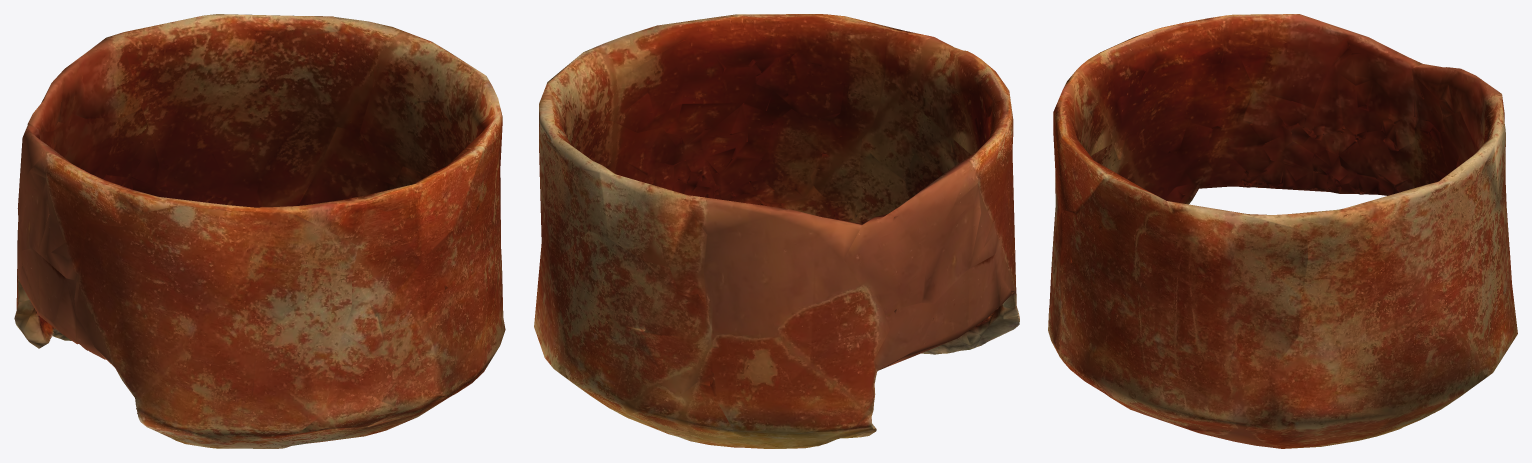
3 views of the same model, side by side, from view 1: azimuth 30°, elevation 25°; view 2: azimuth 150°, elevation 25°; view 3: azimuth 270°, elevation 25° (orthographic). The views are drawn at different scales.
Visible parts, largest first — view 1: Mesh_0.002; view 2: Mesh_0.002; view 3: Mesh_0.002.
Boxes of the visible parts, x1,y1,x2,y2 form: Mesh_0.002: (14, 14, 505, 448); Mesh_0.002: (534, 14, 1019, 448); Mesh_0.002: (1048, 14, 1517, 448).
Bounding box in the file's own units: 0.2137 × 0.141 × 0.2132.
Materials: 1 (1 with a texture image).
